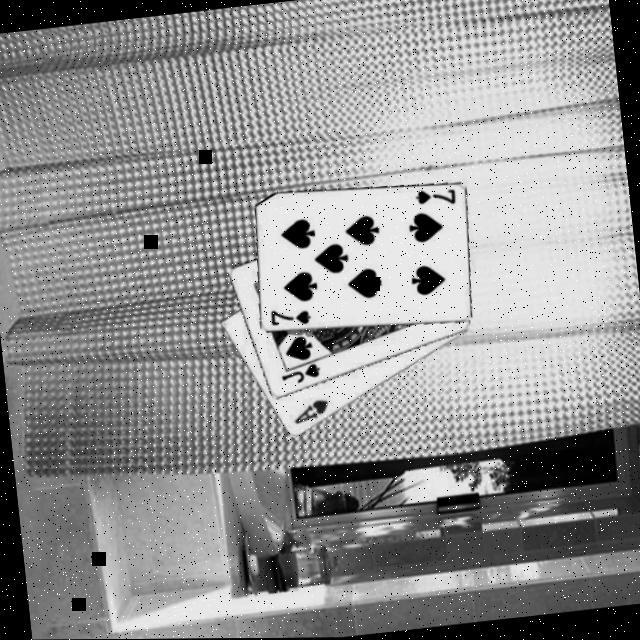7S: (268, 301, 315, 328), (413, 182, 460, 209)
AH: (290, 394, 335, 425)
JS: (279, 358, 325, 386)
